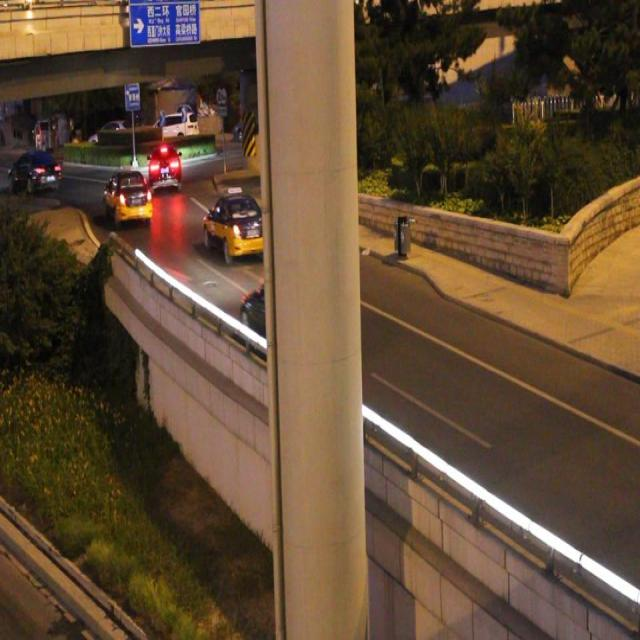car: (240, 266, 338, 368), (202, 186, 270, 262), (103, 166, 153, 227), (148, 146, 182, 192)
